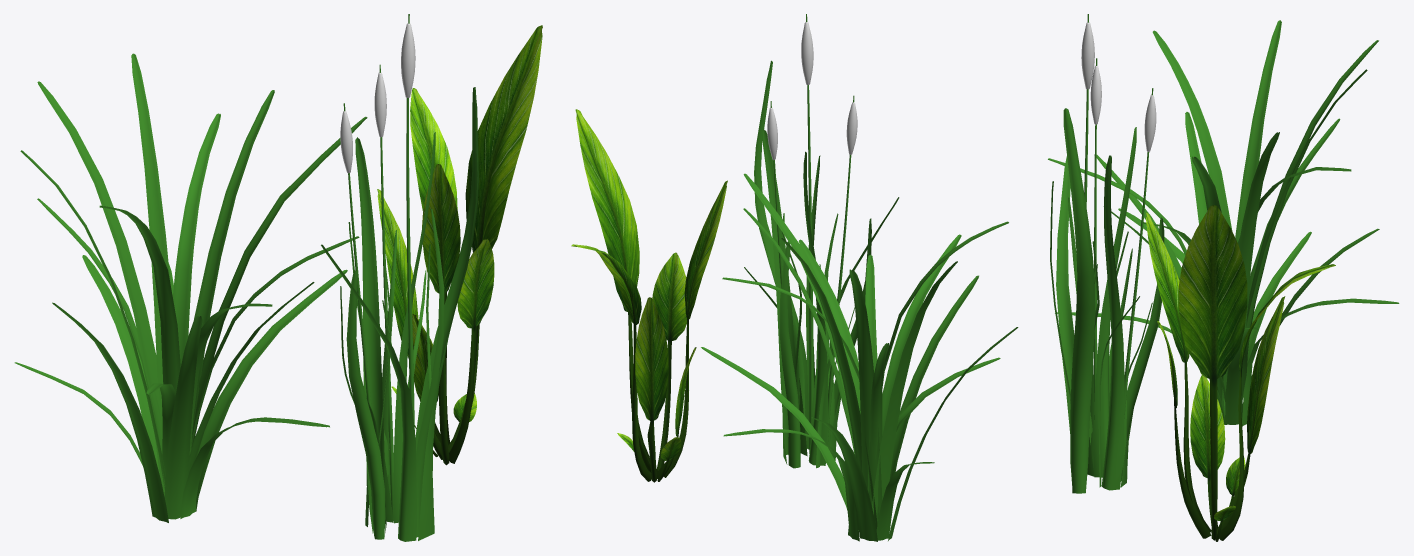
File: plant_pack.fbx
3 renders of one model, left to right at view 1: azimuth 30°, elevation 25°; view 2: azimuth 150°, elevation 25°; view 3: azimuth 270°, elevation 25°, orthographic. The views are drawn at different scales.
Parts seen in each view (by area): view 1: plant_1, plant_3, plant_2; view 2: plant_1, plant_2, plant_3; view 3: plant_3, plant_2, plant_1.
Part boxes in pixels (<box>): plant_1: <box>14,53,367,522</box>; plant_3: <box>321,14,478,541</box>; plant_2: <box>377,25,542,465</box>; plant_1: <box>701,173,1018,541</box>; plant_2: <box>571,109,727,482</box>; plant_3: <box>744,14,899,468</box>; plant_3: <box>1050,14,1164,493</box>; plant_2: <box>1145,205,1335,541</box>; plant_1: <box>1048,20,1399,426</box>.
Bounding box in the file's own units: 1743 × 1726 × 1153.
